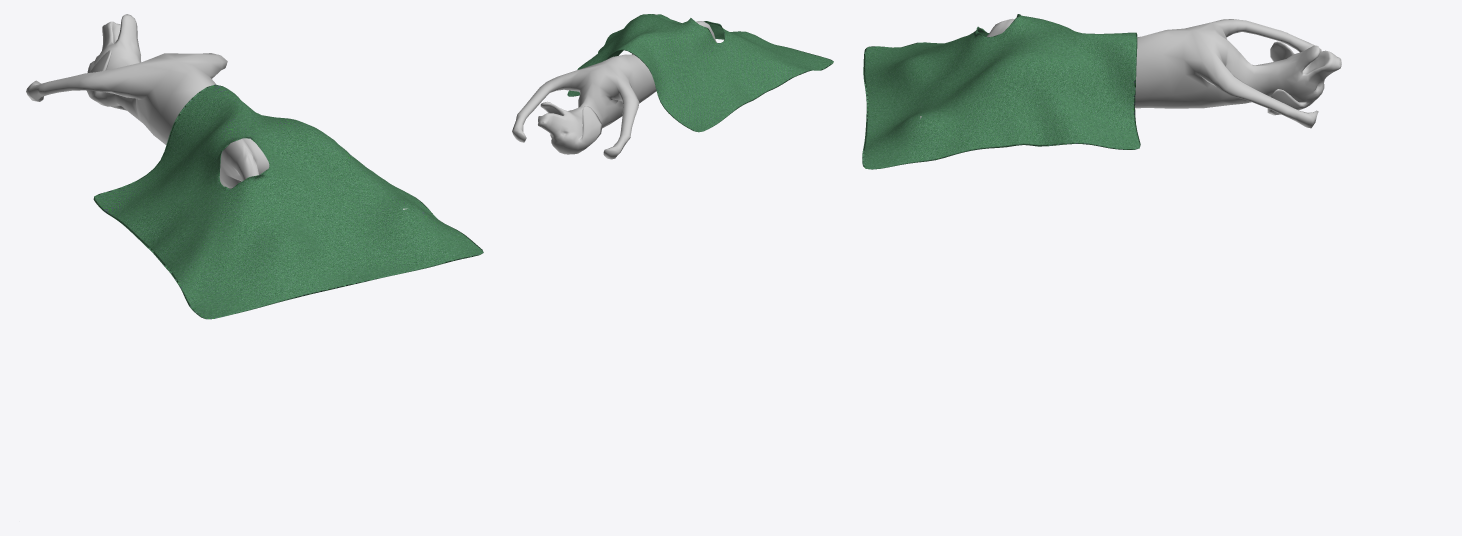
Rendered from Dog 5.fbx.
The picture shows the model from 3 angles, left to right: view 1: azimuth 30°, elevation 25°; view 2: azimuth 150°, elevation 25°; view 3: azimuth 270°, elevation 25°; orthographic projection. The views are drawn at different scales.
Parts seen in each view (by area): view 1: Fabric, Dog; view 2: Fabric, Dog; view 3: Fabric, Dog.
Part boxes in pixels (<box>): Fabric: <box>93,84,483,319</box>; Dog: <box>26,14,407,209</box>; Fabric: <box>567,14,833,132</box>; Dog: <box>512,14,716,159</box>; Fabric: <box>862,14,1140,169</box>; Dog: <box>920,18,1341,128</box>.
Size of the model in its own units: 0.7242 by 1.37 by 1.45.
